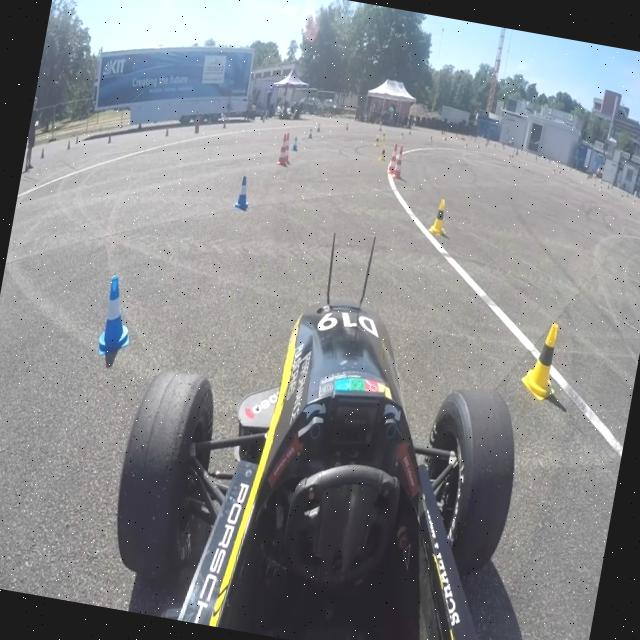blue_cone: (95, 272, 140, 360), (233, 173, 254, 210)
large_orange_cone: (392, 143, 406, 180), (280, 131, 295, 165), (386, 142, 401, 176), (276, 132, 290, 166)
yellow_cone: (518, 319, 566, 402), (426, 196, 451, 238)
